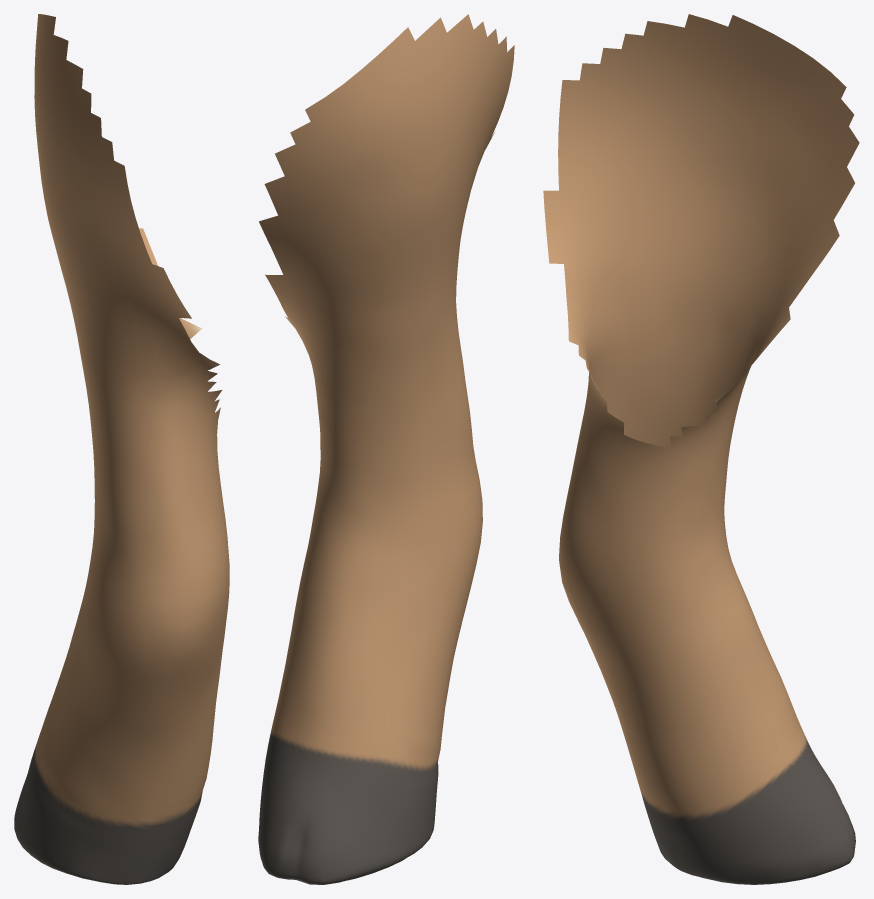
File: Gompers PDD.obj
The picture shows the model from 3 angles, left to right: view 1: azimuth 30°, elevation 25°; view 2: azimuth 150°, elevation 25°; view 3: azimuth 270°, elevation 25°; orthographic projection. The views are drawn at different scales.
Parts seen in each view (by area): view 1: Pata_delantera_der; view 2: Pata_delantera_der; view 3: Pata_delantera_der.
Part boxes in pixels (x1,y1,x2,y2): Pata_delantera_der: [14, 14, 229, 884]; Pata_delantera_der: [258, 14, 514, 884]; Pata_delantera_der: [543, 14, 859, 884].
Size of the model in its own units: 0.1902 by 0.9564 by 0.3347.
